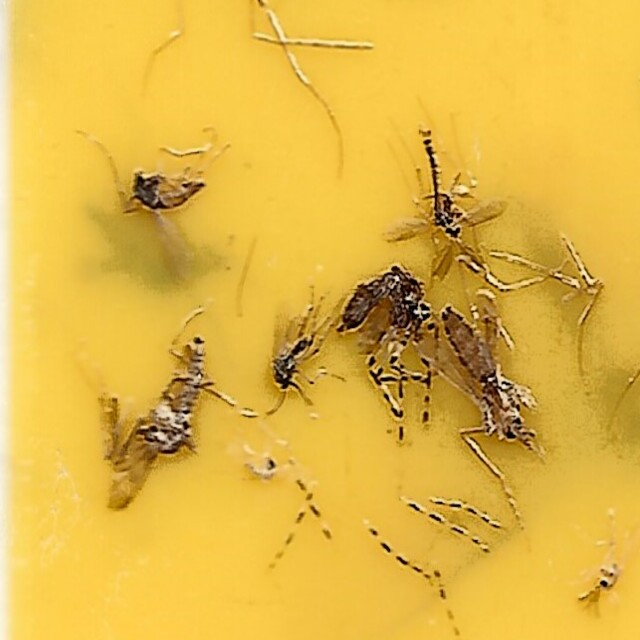Nematocera: (100, 324, 210, 513), (333, 264, 438, 436), (439, 294, 540, 458), (383, 127, 507, 246), (123, 158, 210, 214)
